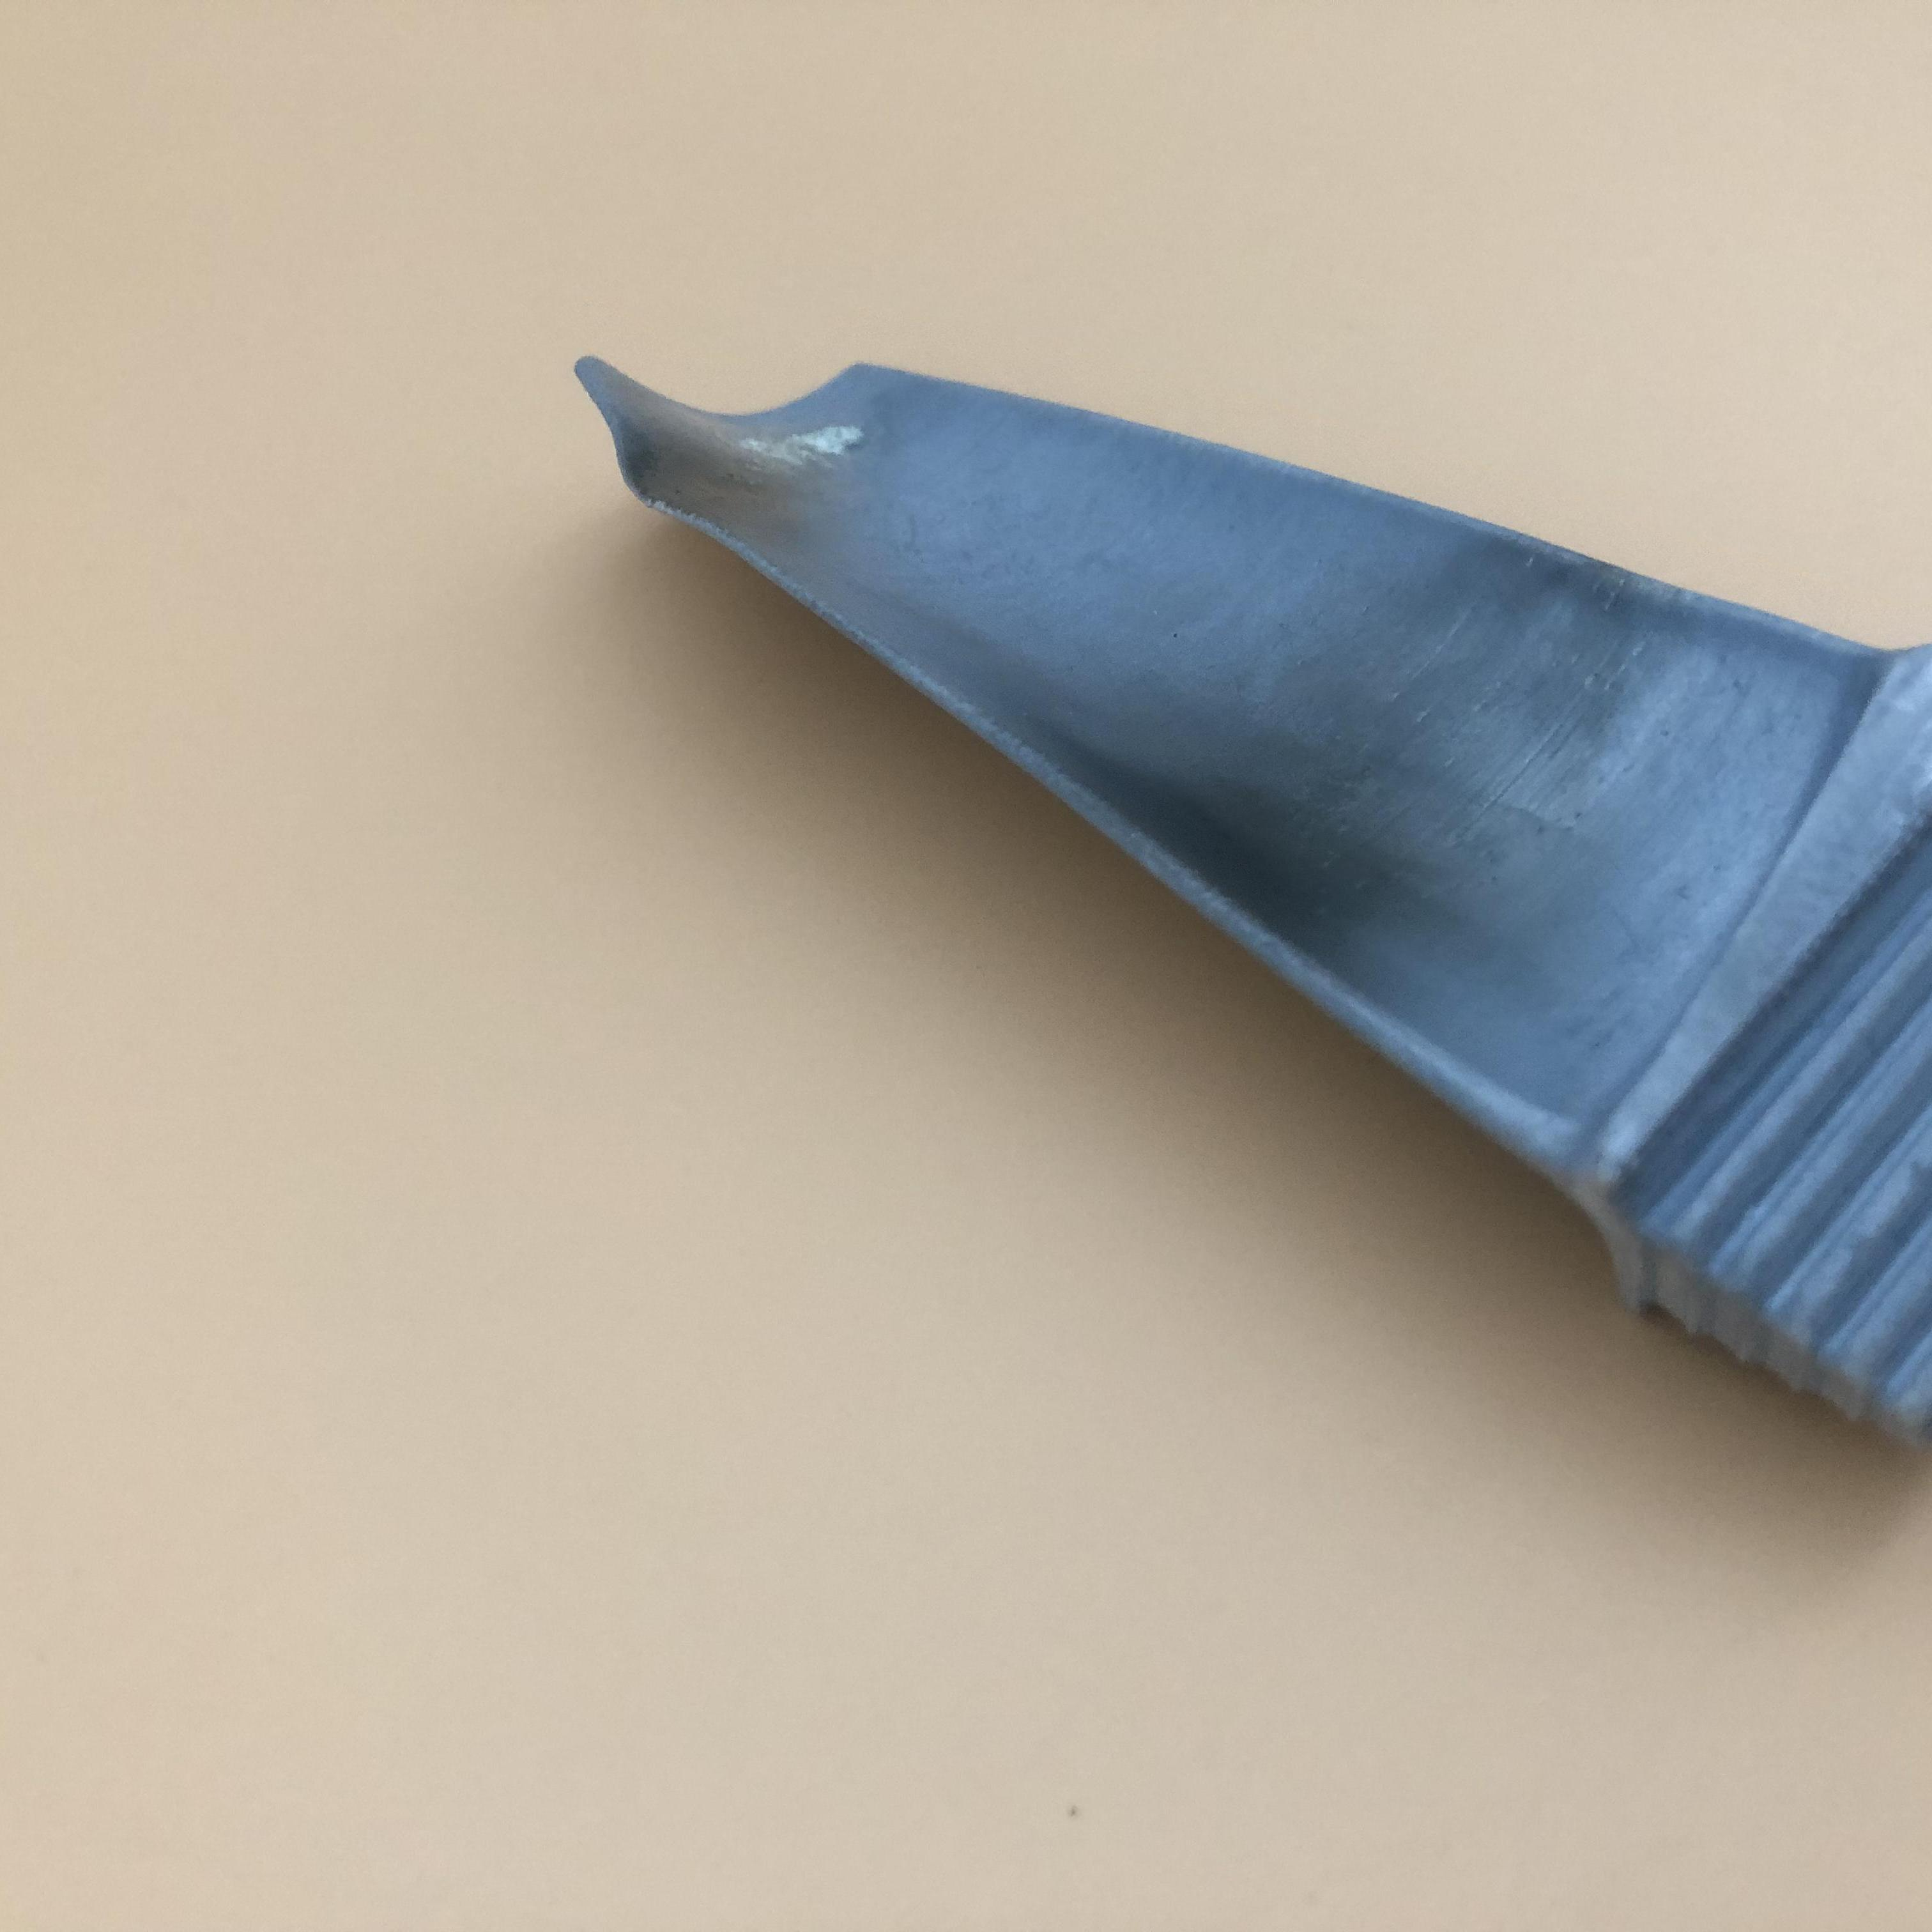ablation: (1212, 577, 1614, 957), (626, 396, 878, 534)
